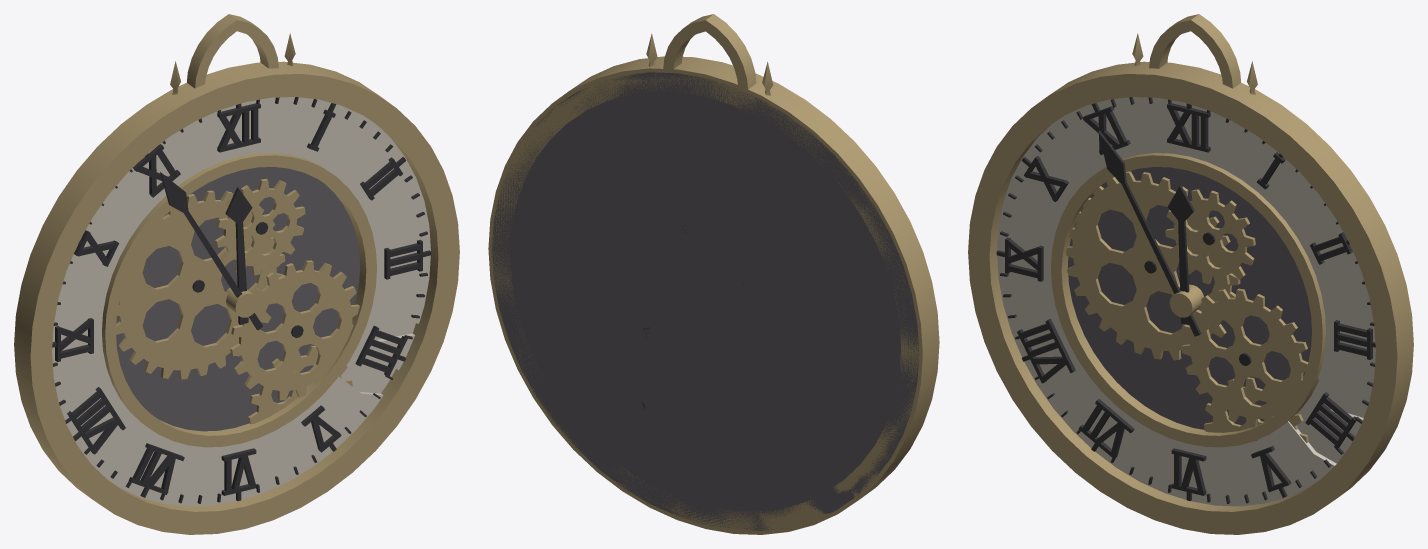
The model's file is clock_face_wall.glb.
3 views of the same model, side by side, from view 1: azimuth 30°, elevation 25°; view 2: azimuth 150°, elevation 25°; view 3: azimuth 330°, elevation 25° (orthographic).
Visible parts, largest first — view 1: ClockFaceWall; view 2: ClockFaceWall; view 3: ClockFaceWall.
Boxes of the visible parts, box(x1,y1,x2,y2) form: ClockFaceWall: box(14, 14, 459, 534); ClockFaceWall: box(488, 14, 939, 534); ClockFaceWall: box(968, 14, 1413, 534).
Bounding box in the file's own units: 6 × 6.72 × 0.44.
